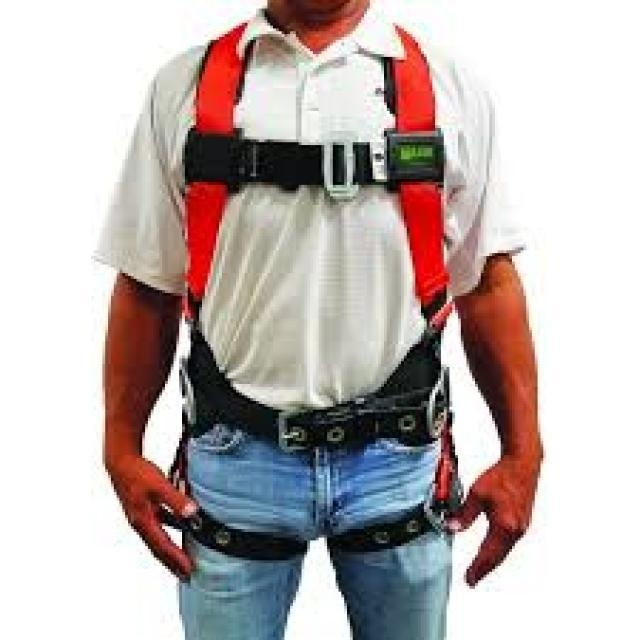Arnes_seguridad: (167, 21, 465, 559)
